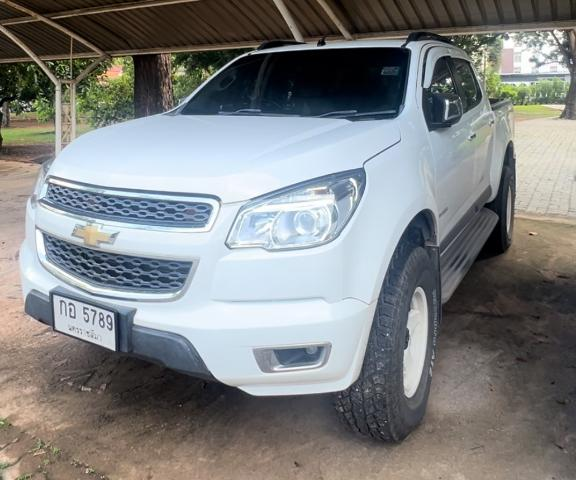pickup-truck: (17, 37, 521, 444)
